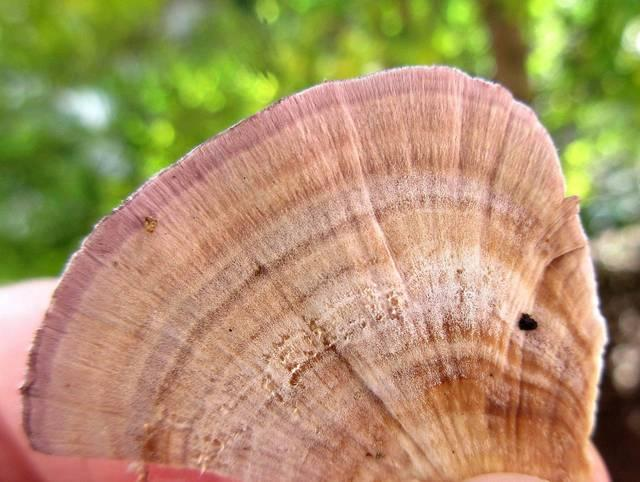Non-edible Mushroom: (18, 62, 614, 481)
